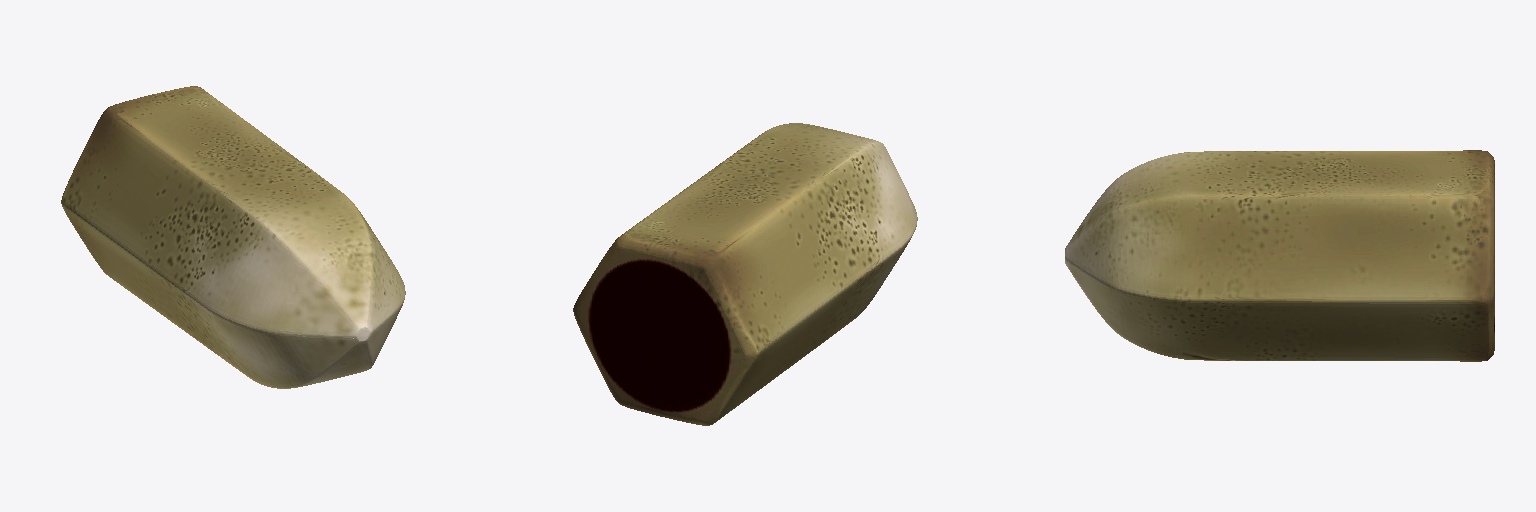
The picture shows the model from 3 angles: view 1: azimuth 30°, elevation 25°; view 2: azimuth 150°, elevation 25°; view 3: azimuth 270°, elevation 25°; orthographic projection.
Parts seen in each view (by area): view 1: mmGroup0; view 2: mmGroup0; view 3: mmGroup0.
Part boxes in pixels (bbox=[...]): mmGroup0: bbox=[61, 86, 405, 388]; mmGroup0: bbox=[573, 123, 917, 425]; mmGroup0: bbox=[1065, 150, 1494, 361].
Size of the model in its own units: 2.42 by 2.15 by 4.92.
1 materials, 1 textured.